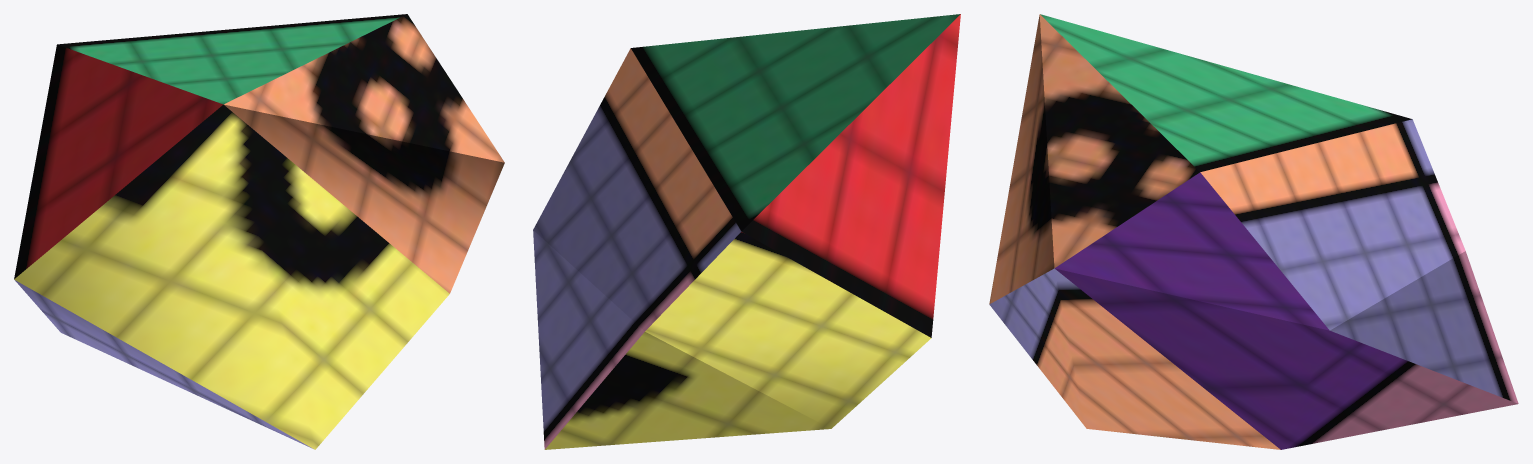
The model's file is lprock3.FBX.
3 views of the same model, side by side, from view 1: azimuth 30°, elevation 25°; view 2: azimuth 150°, elevation 25°; view 3: azimuth 270°, elevation 25° (orthographic). The views are drawn at different scales.
Visible parts, largest first — view 1: rock3; view 2: rock3; view 3: rock3.
Part boxes in pixels (box(x1,y1,x2,y2)): rock3: box(14, 14, 504, 449); rock3: box(533, 14, 960, 449); rock3: box(989, 14, 1518, 449).
Size of the model in its own units: 59.45 by 56.4 by 74.75.
1 material, 1 textured.
